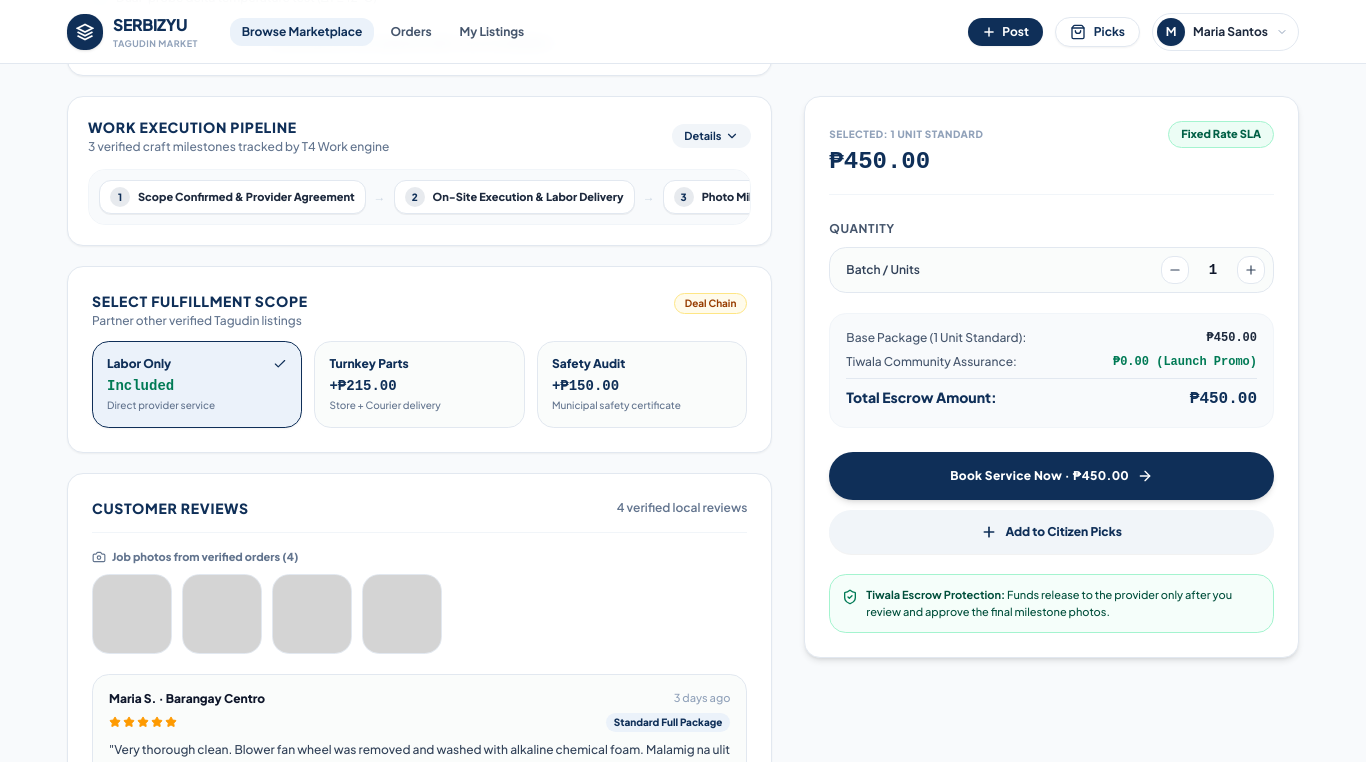
Test: ListingDetail Page › opens partner substitution modal and substitutes selected partner
(page scrolled)
Note: Switch to Turnkey Parts to show courier banner
Click the button "Turnkey Parts +₱215.00 Store + Courier delivery" at [420, 385], box [314,341,525,428]
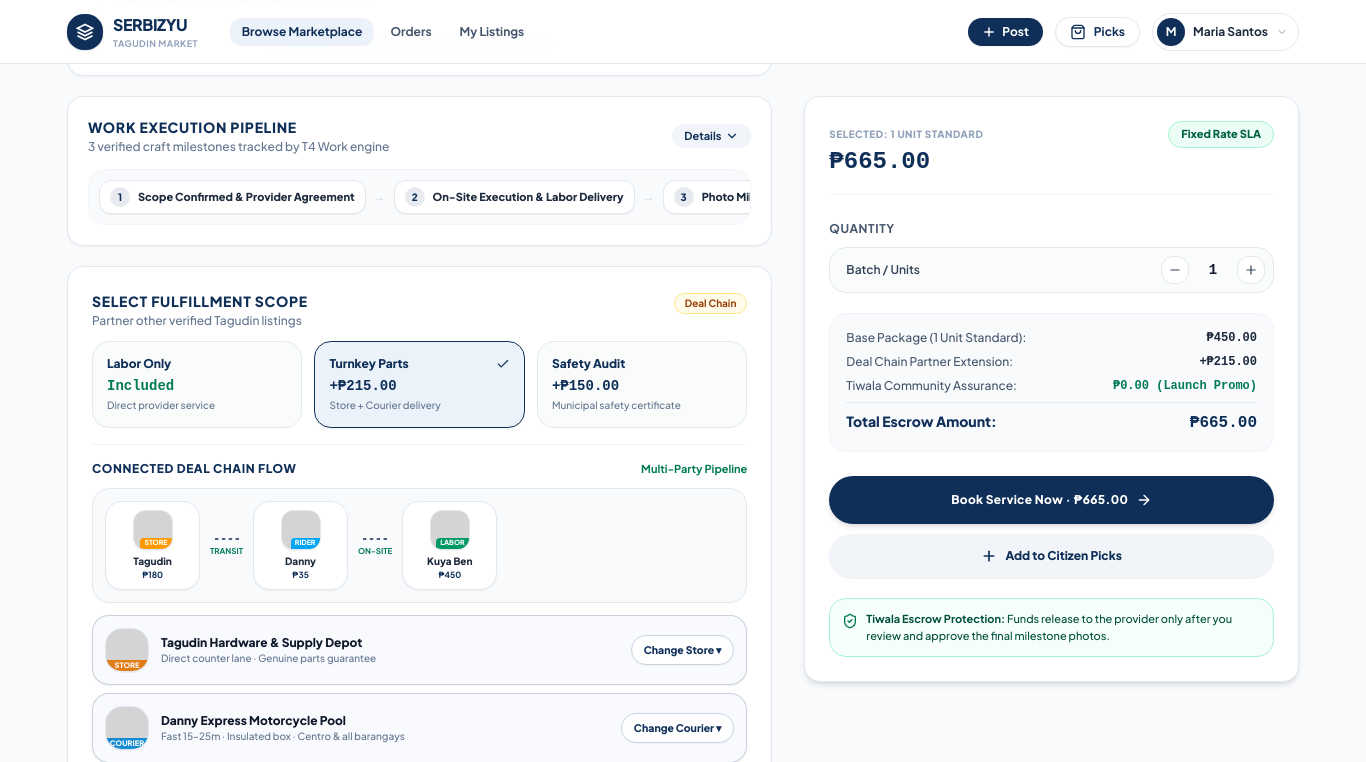
Note: Click "Change Courier ▾"
Click the button "Change Courier ▾" at [678, 728], box [621,714,734,743]
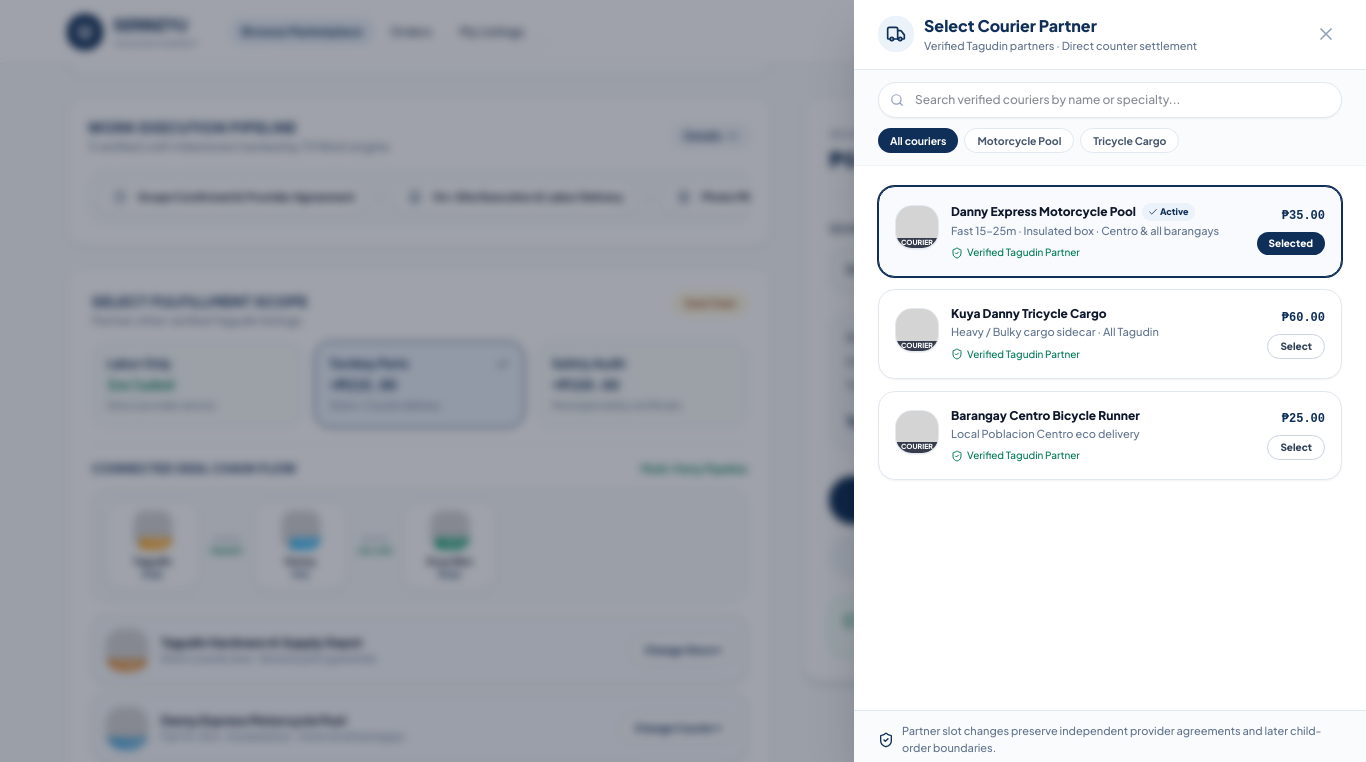
Now the heading "Select Courier Partner" is shown, box [924,15,1097,36]
Now the text "Kuya Danny Tricycle Cargo" is shown
Note: Select Kuya Danny Tricycle Cargo
Click the text "Kuya Danny Tricycle Cargo" at [1029, 314], box [951,306,1106,322]
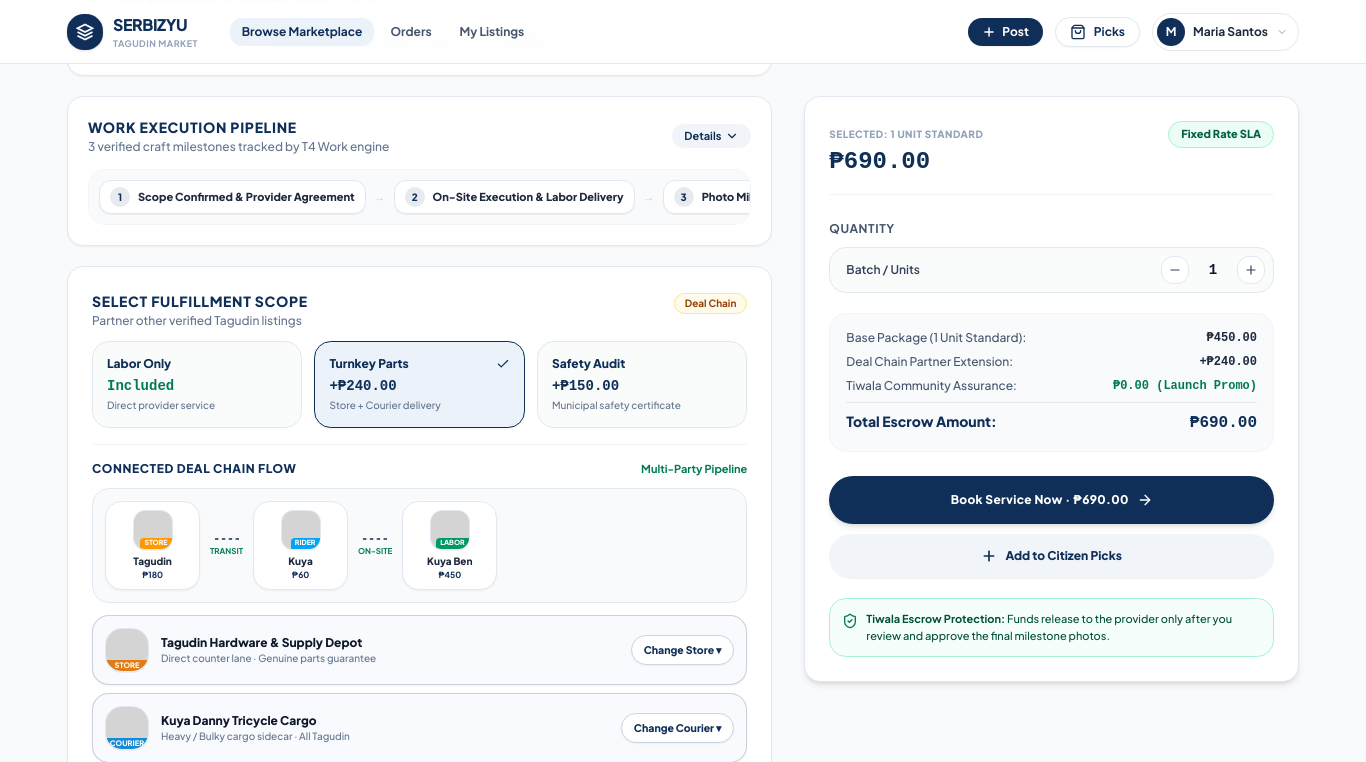
Now the text "Kuya Danny Tricycle Cargo" is shown, box [161,713,316,728]
